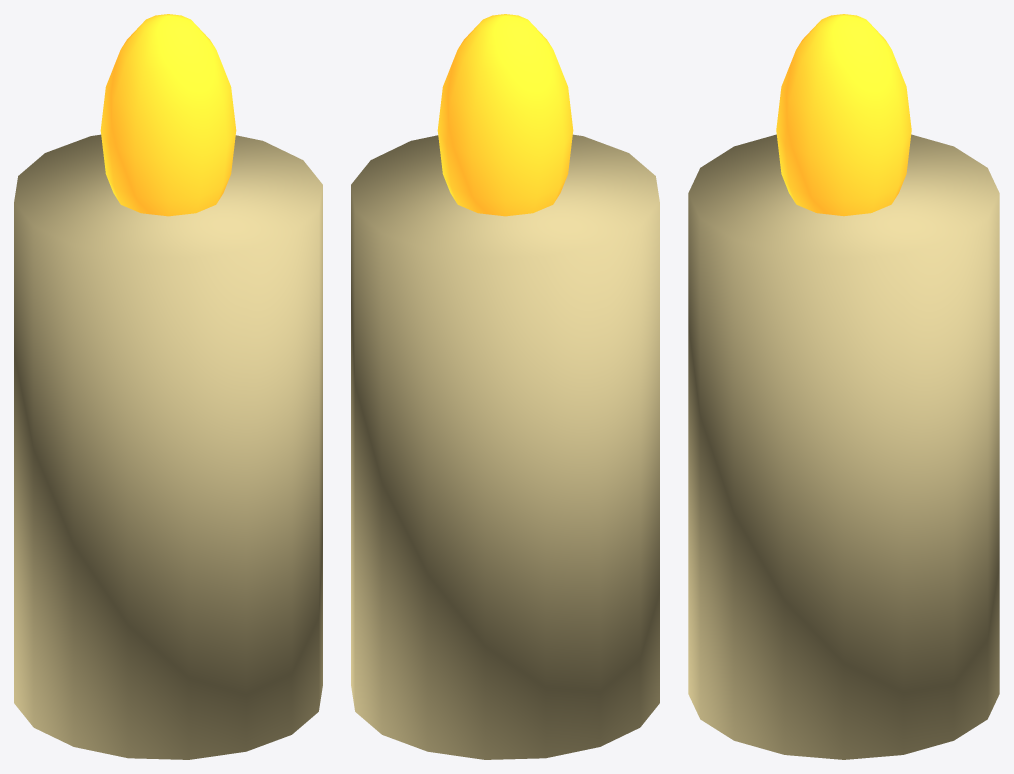
File: candle.glb
3 views of the same model, side by side, from view 1: azimuth 30°, elevation 25°; view 2: azimuth 150°, elevation 25°; view 3: azimuth 270°, elevation 25° (orthographic).
Parts seen in each view (by area): view 1: Candle; view 2: Candle; view 3: Candle.
Part boxes in pixels (bbox=[...]): Candle: bbox=[14, 14, 322, 759]; Candle: bbox=[351, 14, 659, 759]; Candle: bbox=[688, 14, 999, 759].
Size of the model in its own units: 0.09 by 0.2164 by 0.09.
